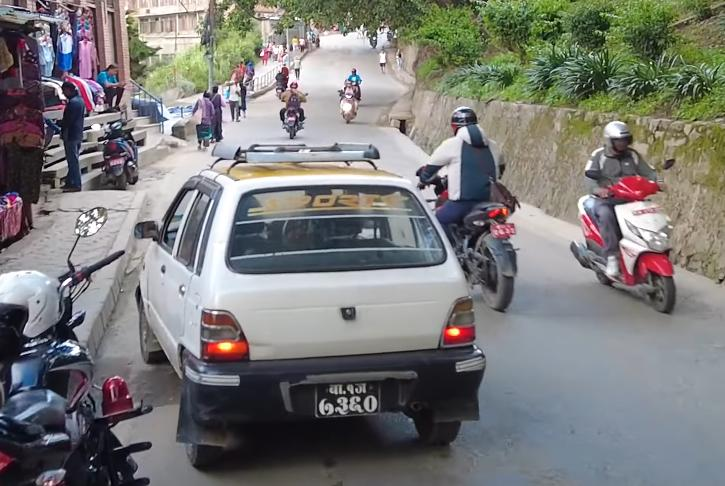bike: (0, 251, 155, 486), (411, 154, 527, 314), (275, 92, 309, 141)
scooter: (571, 157, 691, 315), (337, 87, 361, 123)
taxi: (124, 135, 484, 460)
